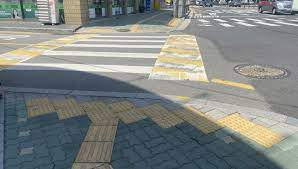guide_blocks: (26, 98, 140, 121), (221, 115, 281, 148), (146, 106, 220, 131), (72, 125, 116, 167)
